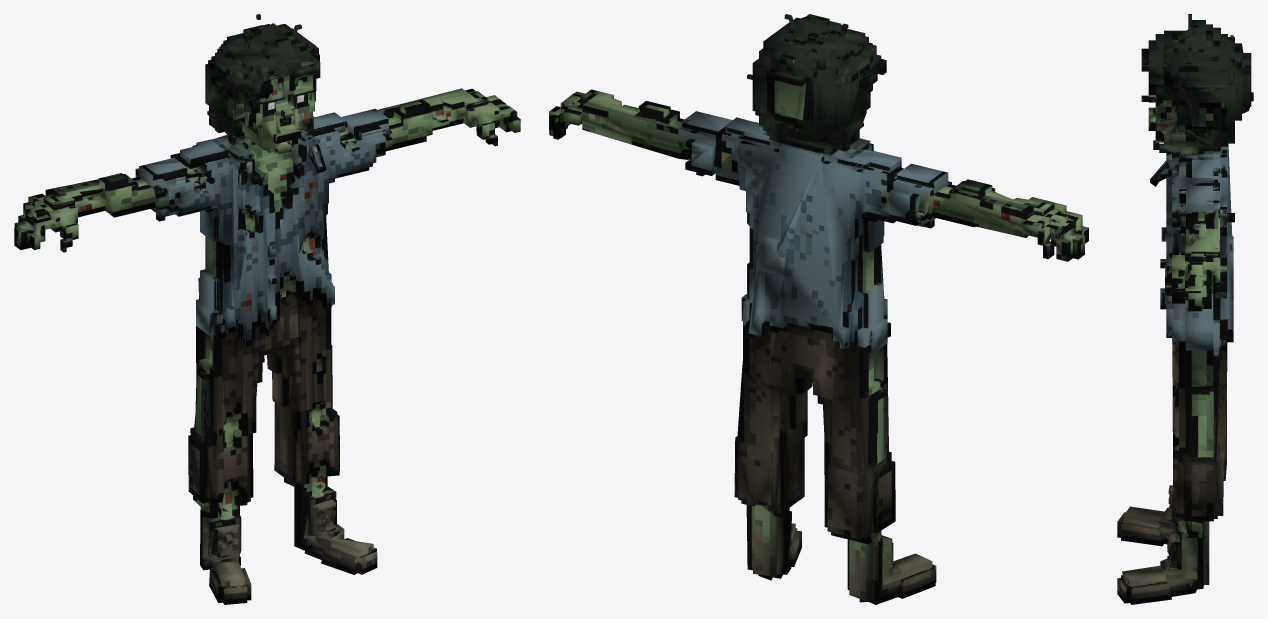
The model's file is selected.fbx.
3 views of the same model, side by side, from view 1: azimuth 30°, elevation 25°; view 2: azimuth 150°, elevation 25°; view 3: azimuth 270°, elevation 25° (orthographic). The views are drawn at different scales.
Parts seen in each view (by area): view 1: tripo_node_2da60346-e69f-4cfd-a382-1e2c8cb0f6bb; view 2: tripo_node_2da60346-e69f-4cfd-a382-1e2c8cb0f6bb; view 3: tripo_node_2da60346-e69f-4cfd-a382-1e2c8cb0f6bb.
Boxes of the visible parts, x1,y1,x2,y2 form: tripo_node_2da60346-e69f-4cfd-a382-1e2c8cb0f6bb: [14, 14, 520, 604]; tripo_node_2da60346-e69f-4cfd-a382-1e2c8cb0f6bb: [549, 14, 1088, 604]; tripo_node_2da60346-e69f-4cfd-a382-1e2c8cb0f6bb: [1117, 14, 1253, 604].
Bounding box in the file's own units: 0.9707 × 0.998 × 0.2285.
1 material, 1 textured.
